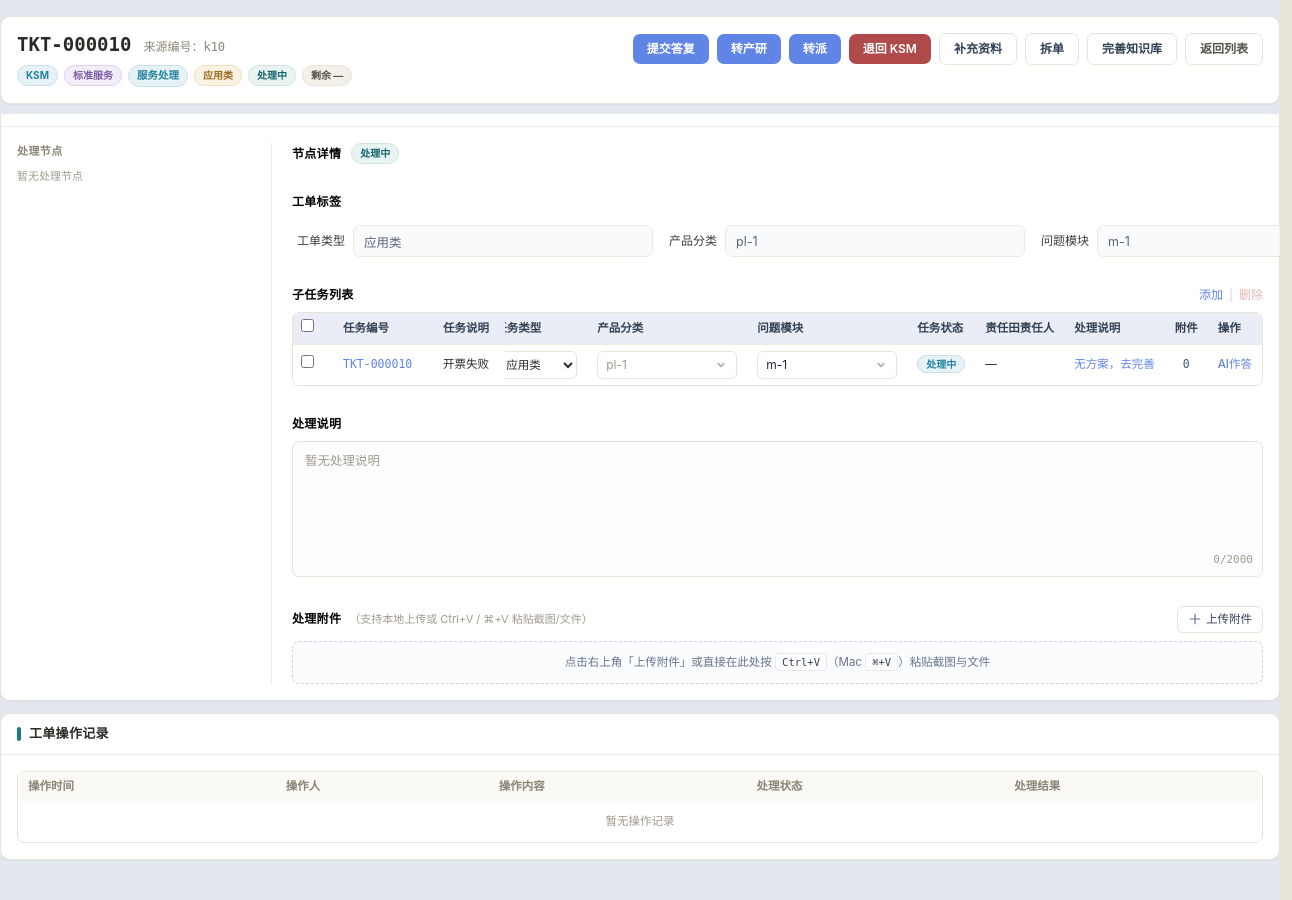
Scenario: TicketDetailPage 出站回写失败横幅 › 处理说明录入框高度增加且右下角显示已录入/最大字数，底部旧文案已删除
The width and height of the screenshot is (1292, 900).
(page scrolled)
Double-click the element titled "双击修改处理说明" at (778, 509), box [292,441,1263,577]
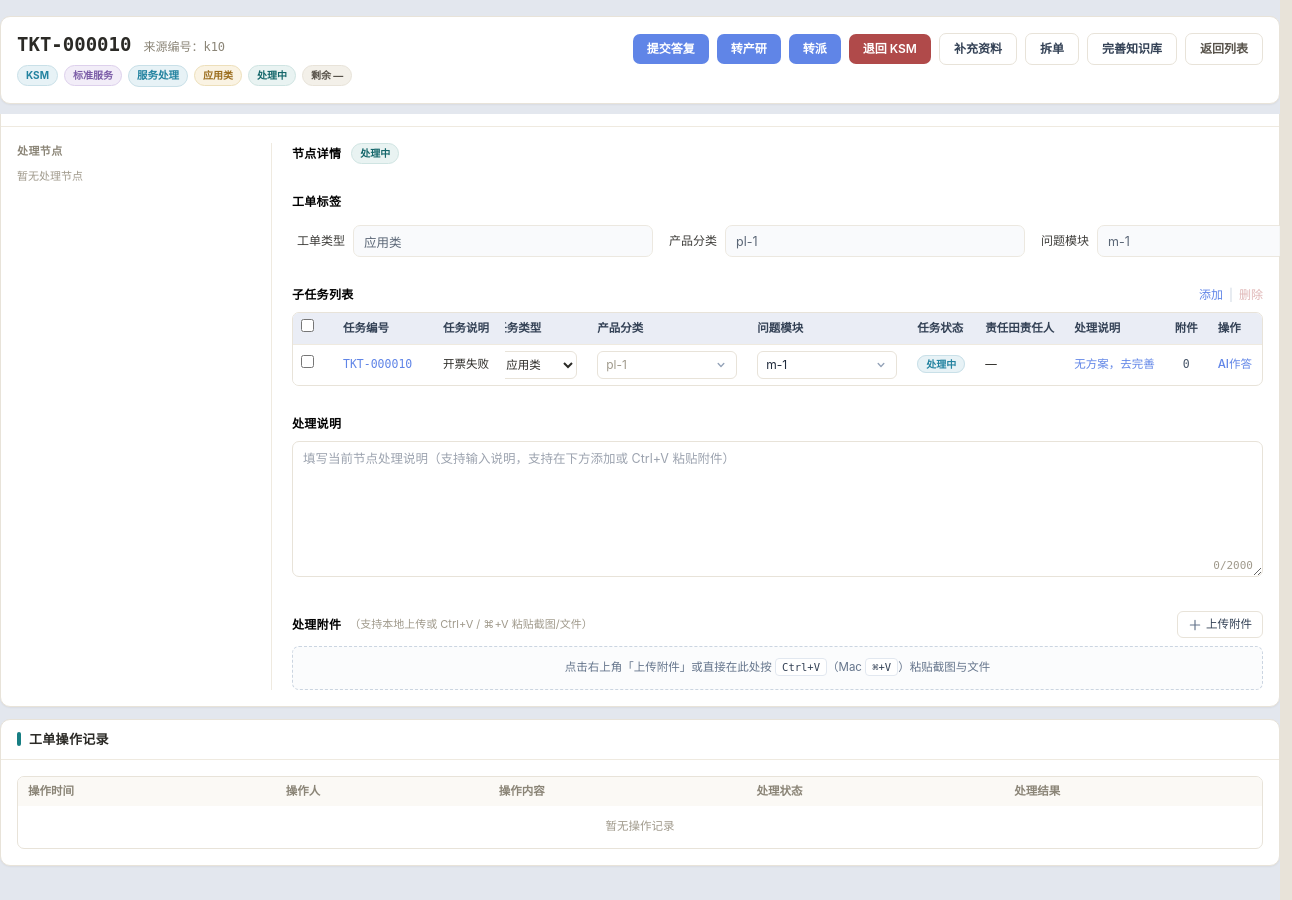
Expected: the text box with placeholder "填写当前节点处理说明（支持输入说明，支持在下方添加或 Ctrl+V 粘贴附件）" is shown
// 录入新内容，字数统计实时联动更新
Type "hello world" into the text box with placeholder "填写当前节点处理说明（支持输入说明，支持在下方添加或 Ctrl+V 粘贴附件）" at (778, 509), box [292,441,1263,577]
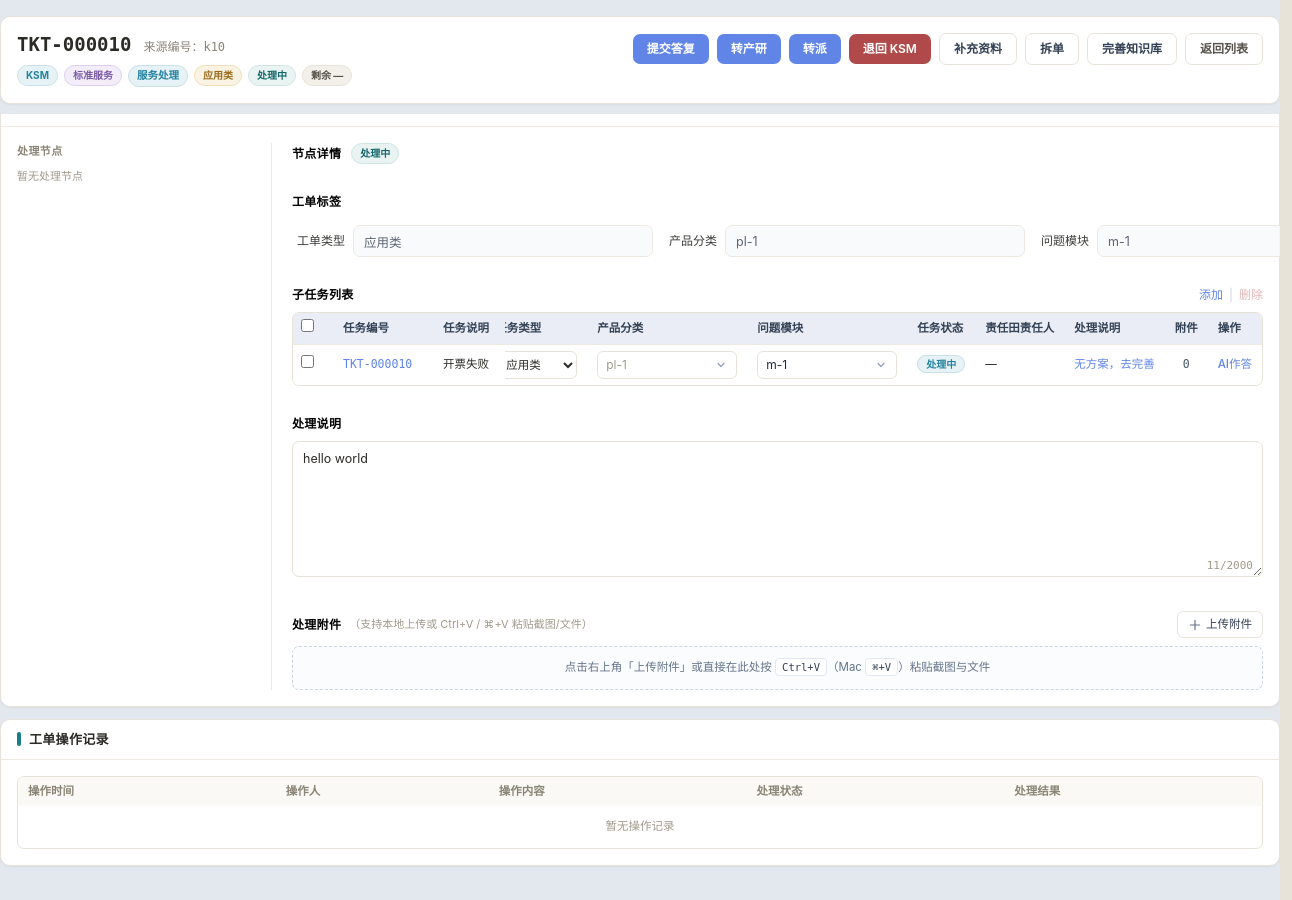
Expected: the text "11/2000" is shown, [1207,558,1253,574]
